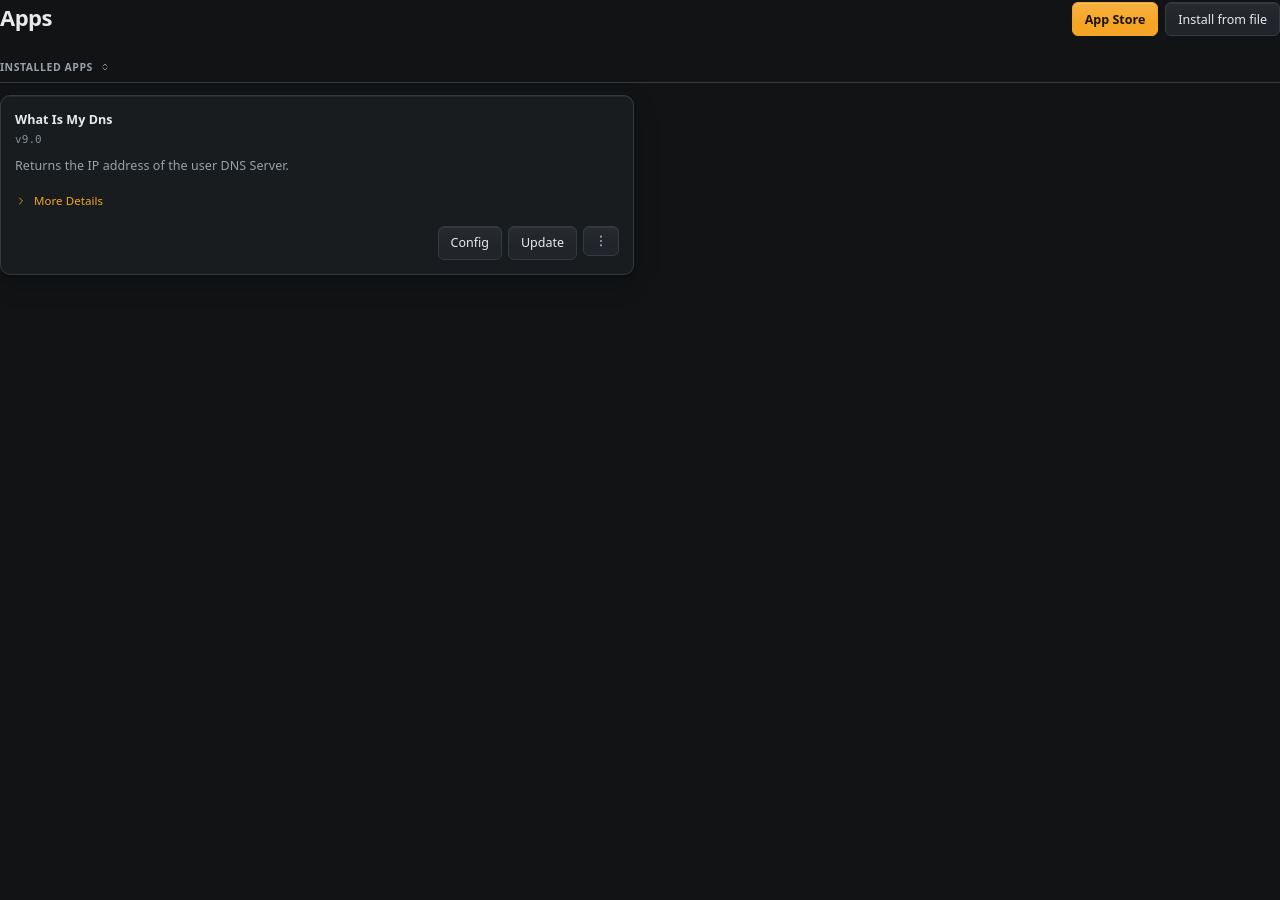
it: Apps: uninstalling › it asks for confirmation with the literal text of upstream
Check: the list item "What Is My Dns" is shown, box [0,95,634,275]
Click the button named "Actions: What Is My Dns": coordinates (601, 241) [583,226,619,256]
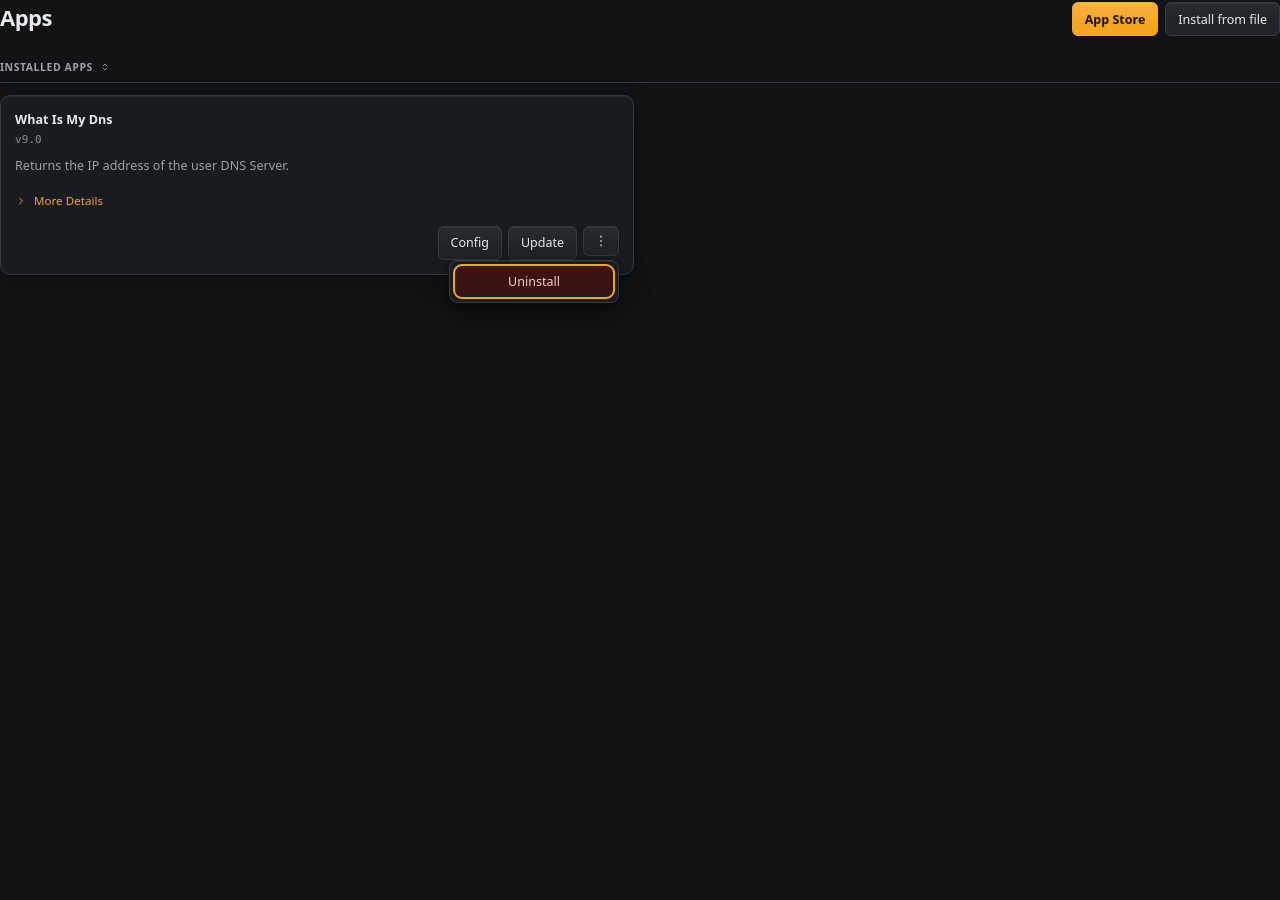
Click the menu item "Uninstall": coordinates (534, 281) [456,267,612,296]
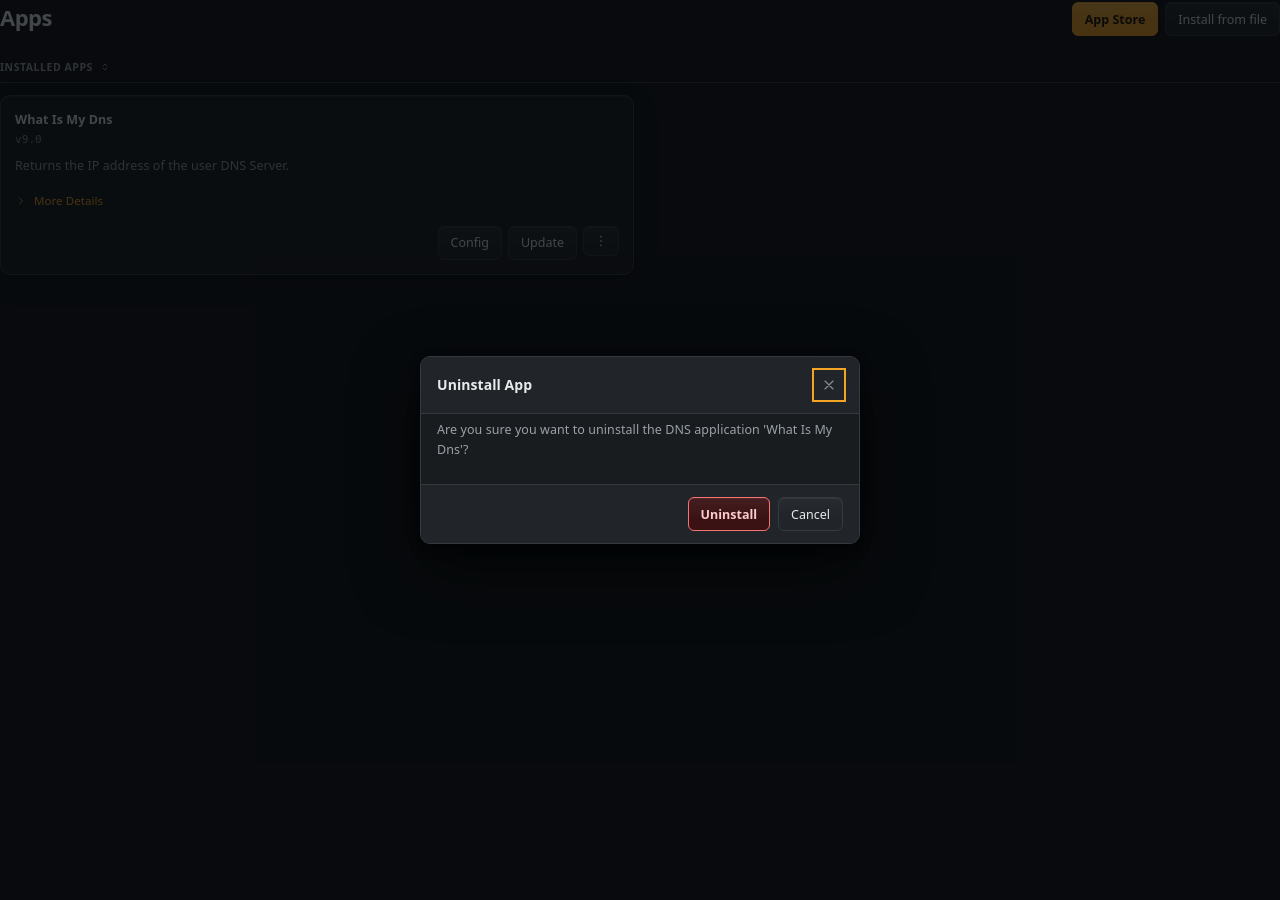
Check: the text "Are you sure you want to uninstall the DNS application 'What Is My Dns'?" is shown, box [437,420,843,460]
